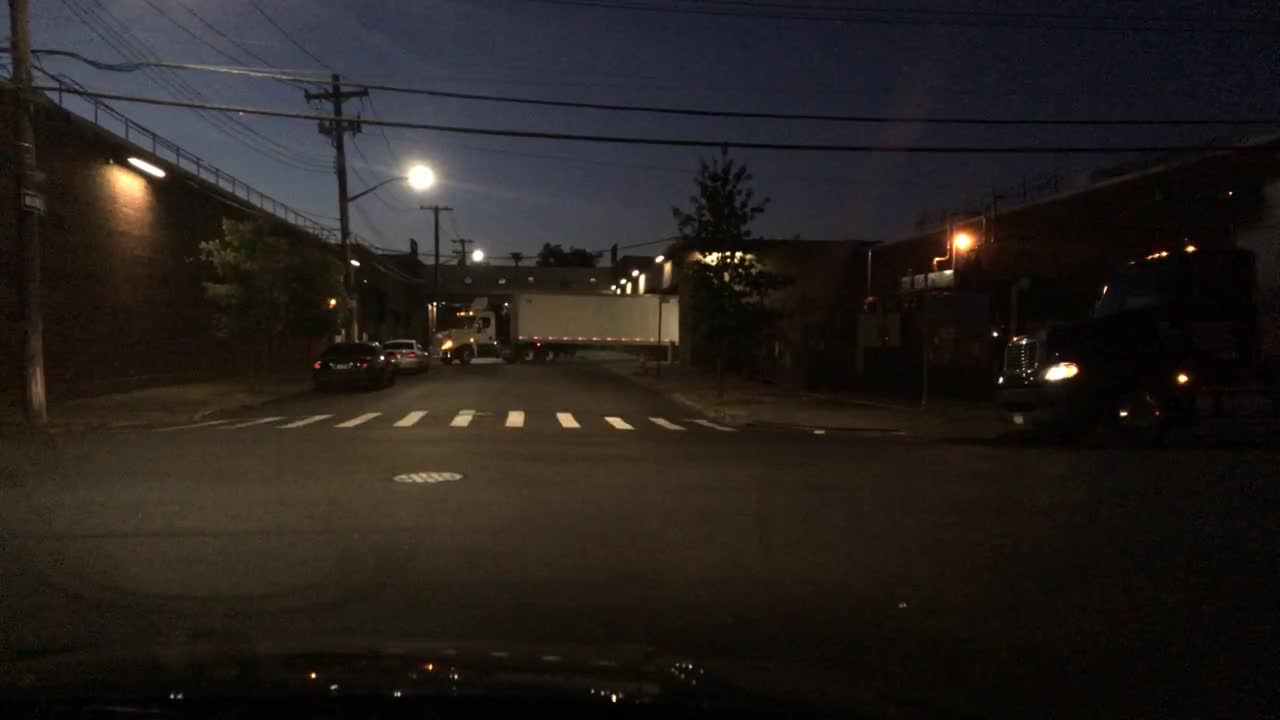car: (313, 343, 394, 390), (381, 338, 430, 375)
traffic sign: (17, 191, 46, 213)
truck: (996, 239, 1277, 453), (430, 290, 679, 368)
